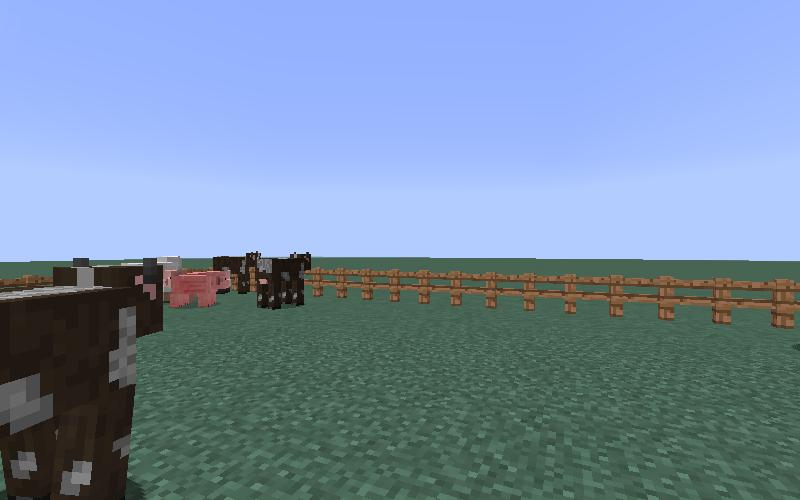cow: (1, 259, 164, 500), (251, 247, 316, 314)
pig: (166, 262, 236, 317)
